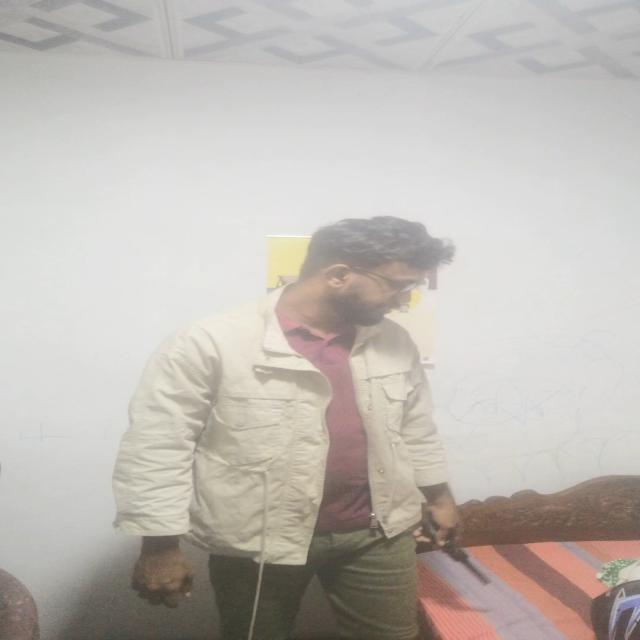Gun_Holder: (431, 528, 499, 586)
Jacket_Wearer: (108, 302, 456, 542)
Person: (115, 216, 472, 640)
